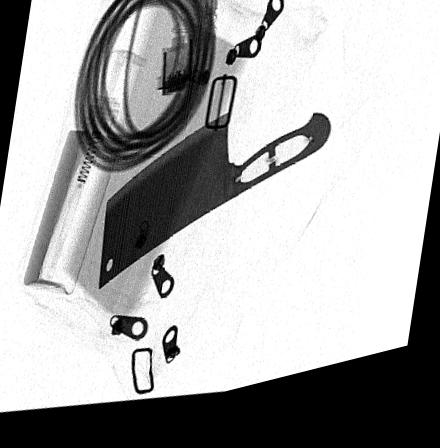Knife: (99, 121, 332, 294)
